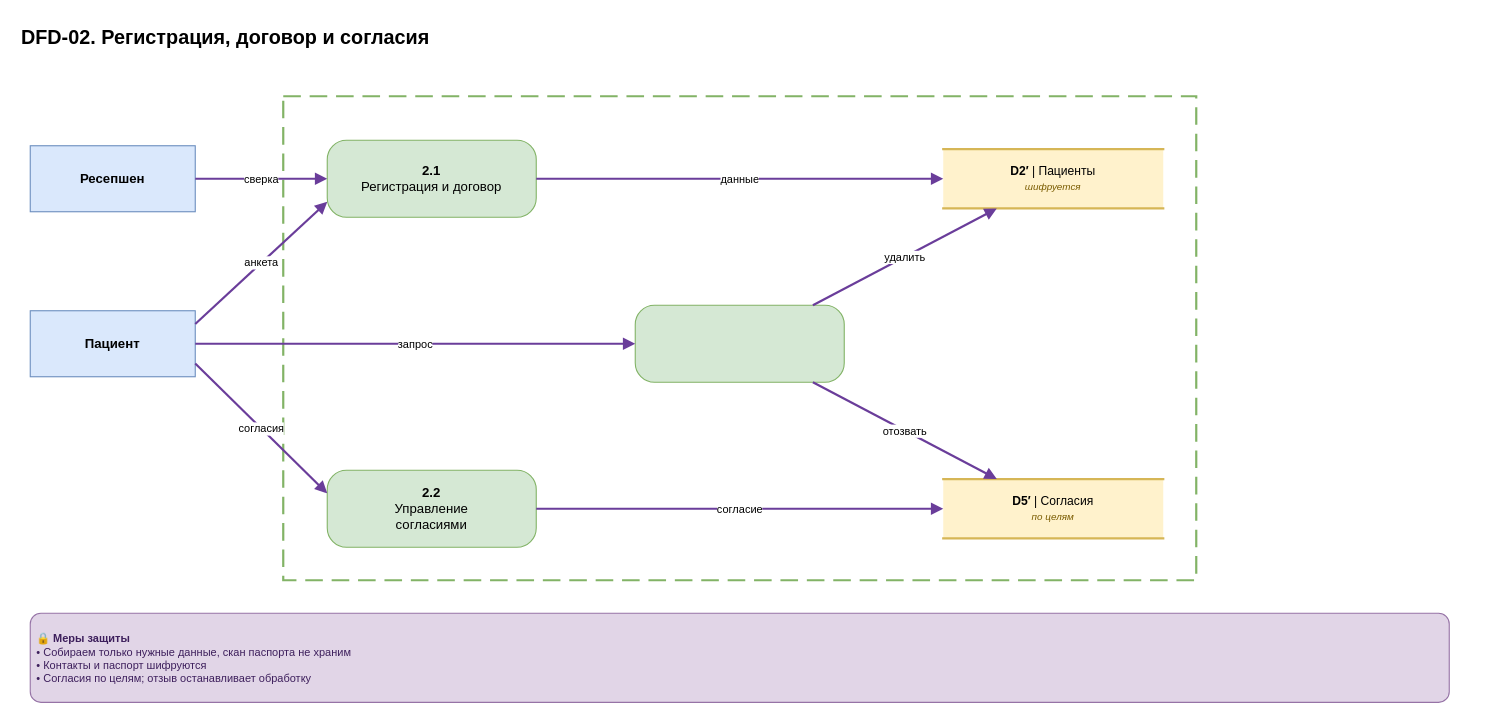
Some shapes in this 1489 by 722 pixel diagram are drawn without their labels. Here are the shapes that lost their labels. From the top down, the box of each, then its label:
(634, 304, 844, 382): 2.3 Отзыв согласия / удаление данных
(282, 95, 1197, 581): Защищённый контур
